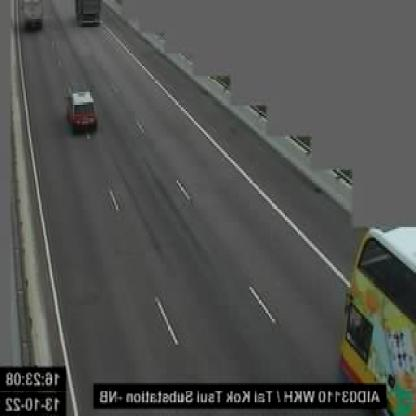Bus: (340, 222, 416, 413)
Car: (66, 88, 98, 134)
Truck: (72, 0, 103, 25), (22, 0, 44, 32)
